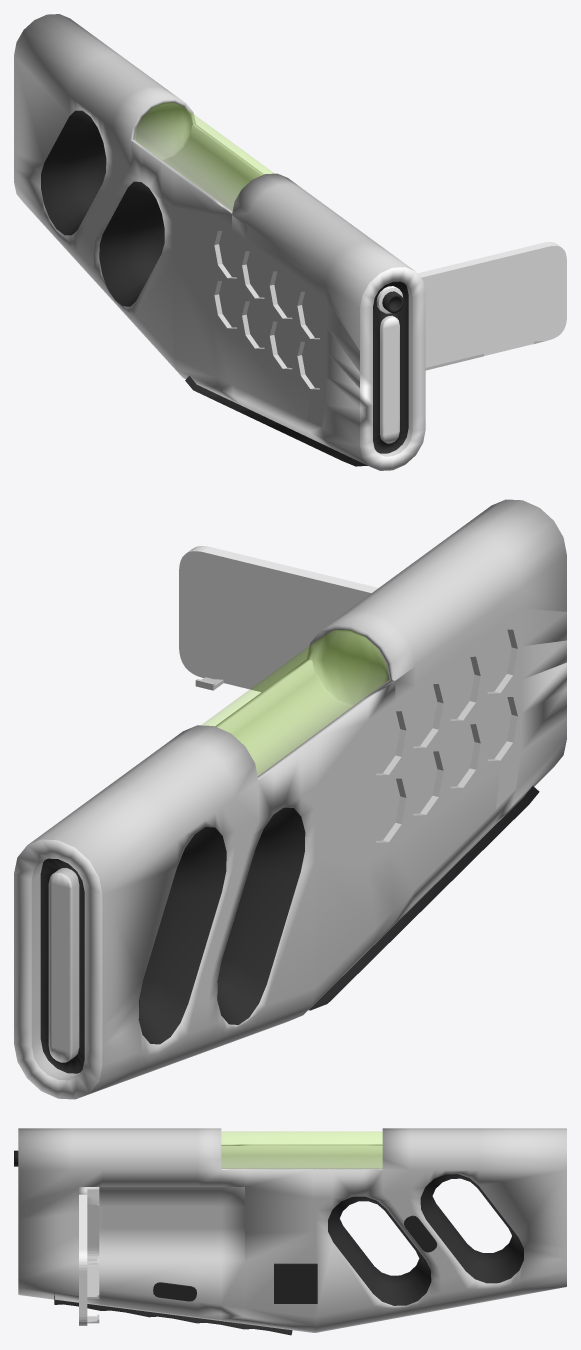
Rendered from arma_per_sito_(V11).glb.
The picture shows the model from 3 angles, top to bottom: view 1: azimuth 30°, elevation 25°; view 2: azimuth 150°, elevation 25°; view 3: azimuth 270°, elevation 25°; orthographic projection. The views are drawn at different scales.
Parts seen in each view (by area): view 1: corpo arma, retro, prova caricatore, Trigger hole.001, second hole, handle, barrel; view 2: corpo arma, retro, prova caricatore, Trigger hole.001, second hole, handle; view 3: corpo arma, prova caricatore, Trigger hole.001, second hole, Cube.001, bordo.001, retro, handle, Cube.002, Cube.003, supporto stampa cover.
Part boxes in pixels (x1,y1,x2,y2): corpo arma: (14, 14, 425, 470); retro: (417, 242, 566, 367); prova caricatore: (135, 102, 273, 210); Trigger hole.001: (99, 181, 164, 306); second hole: (41, 110, 106, 235); handle: (185, 376, 367, 466); barrel: (376, 286, 404, 313); corpo arma: (14, 499, 566, 1099); retro: (179, 546, 378, 692); prova caricatore: (202, 630, 388, 775); Trigger hole.001: (217, 807, 305, 1024); second hole: (138, 827, 226, 1044); handle: (308, 786, 539, 1010); corpo arma: (18, 1128, 566, 1332); prova caricatore: (221, 1131, 382, 1168); Trigger hole.001: (328, 1196, 431, 1305); second hole: (420, 1174, 523, 1283); Cube.001: (274, 1263, 317, 1303); bordo.001: (87, 1204, 99, 1323); retro: (79, 1194, 87, 1325); handle: (54, 1293, 292, 1335); Cube.002: (153, 1282, 196, 1301); Cube.003: (404, 1215, 437, 1252); supporto stampa cover: (79, 1187, 99, 1204).
Bounding box in the file's own units: 0.2068 × 0.2019 × 0.504.
